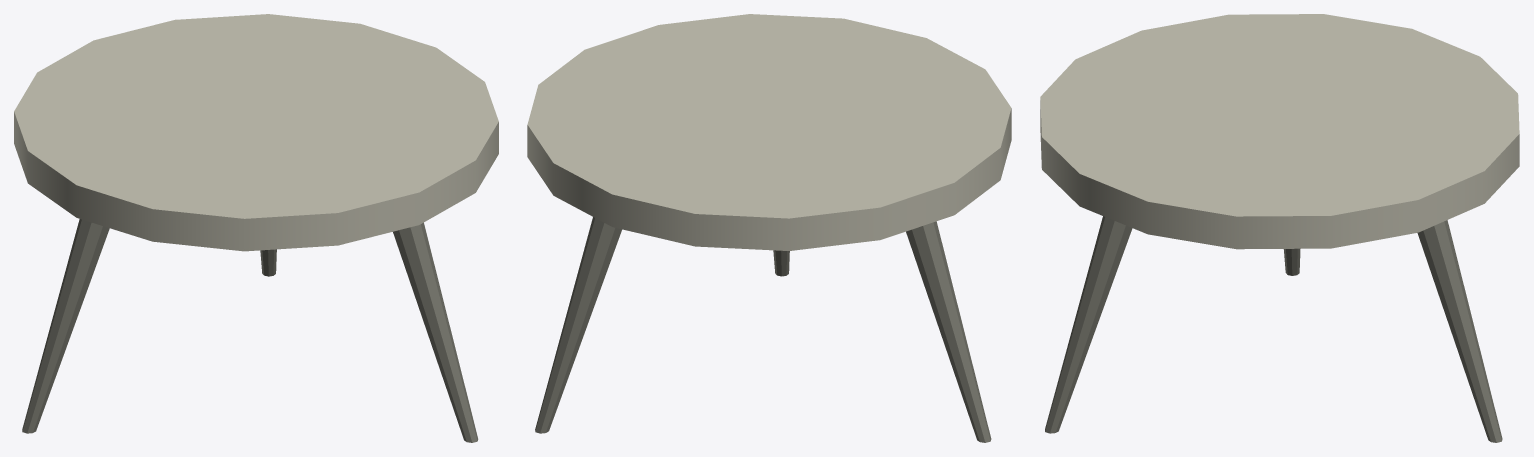
File: tablesmall.glb
3 views of the same model, side by side, from view 1: azimuth 30°, elevation 25°; view 2: azimuth 150°, elevation 25°; view 3: azimuth 270°, elevation 25° (orthographic).
Parts seen in each view (by area): view 1: table_small; view 2: table_small; view 3: table_small.
Boxes of the visible parts, x1,y1,x2,y2 form: table_small: (14,14,498,442); table_small: (527,14,1011,442); table_small: (1040,14,1519,442).
Bounding box in the file's own units: 1.5 × 0.8722 × 1.43.
Materials: 1 (1 with a texture image).
